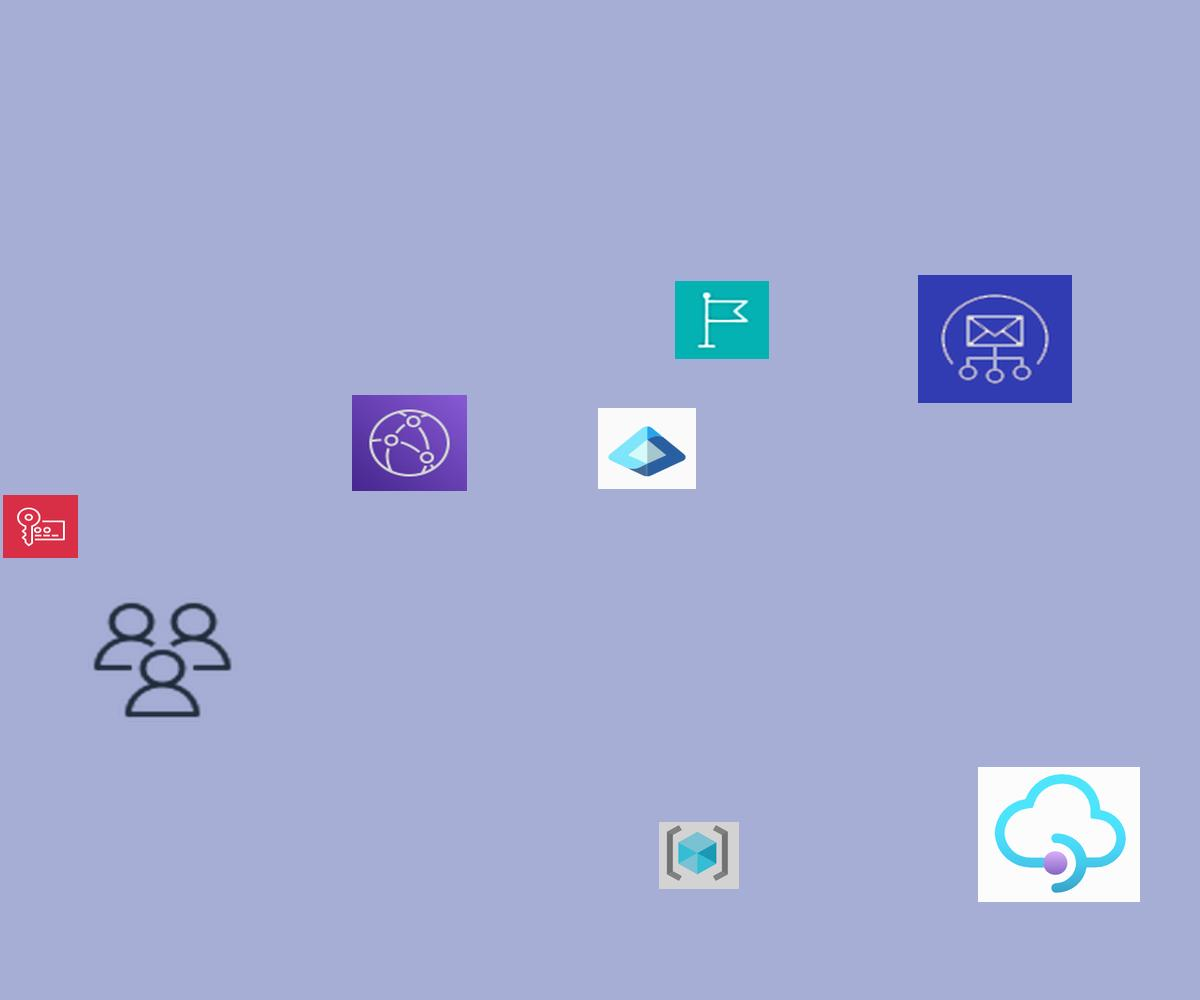AWS-CloudFront: (352, 395, 467, 491)
AWS-Key-Management-Service: (3, 495, 78, 558)
AWS-Region: (675, 281, 769, 359)
AWS-Res_Users: (88, 598, 237, 722)
AWS-Simple-Email-Service: (918, 275, 1072, 403)
Azure_api_gateway: (978, 767, 1140, 902)
Azure_microsoft_entra: (598, 408, 696, 489)
Azure_resource_group: (659, 822, 739, 889)
